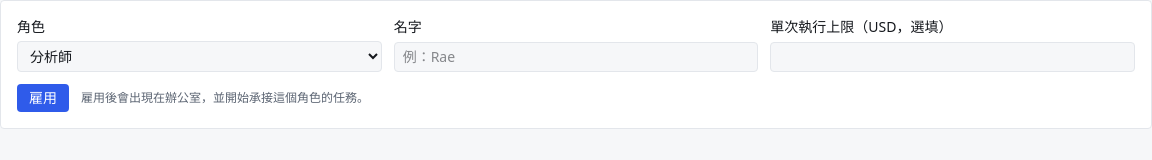
Scenario: the hire form › shows why a hire was refused
The image size is (1152, 160).
Type "X" into the field labelled "名字". click: (576, 57)
box: x1=394 y1=42 x2=758 y2=72
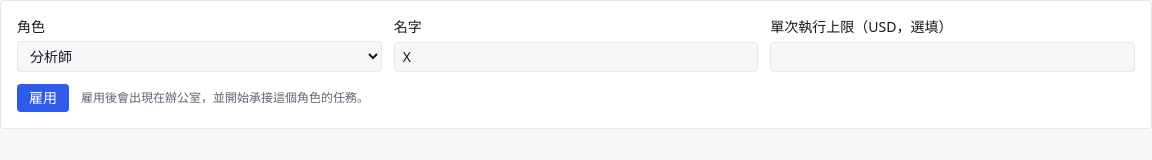
Submit the form "雇用"
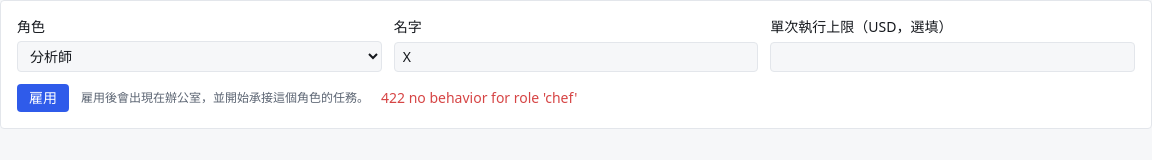
Now the text "422 no behavior for role 'chef'" is shown, box x1=381 y1=88 x2=577 y2=108
